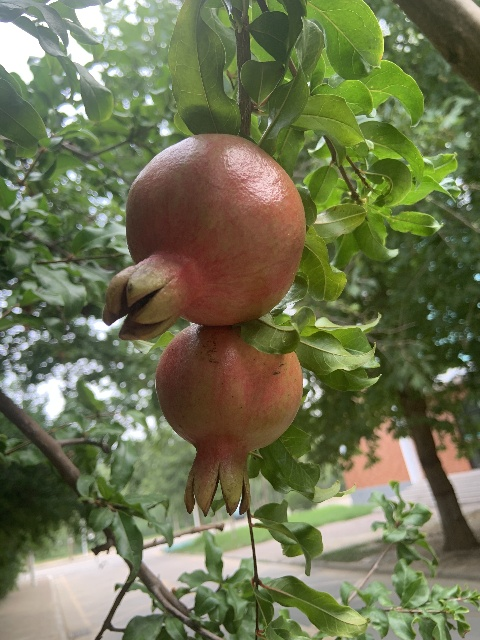ripe: (103, 132, 306, 336), (155, 325, 302, 516)
